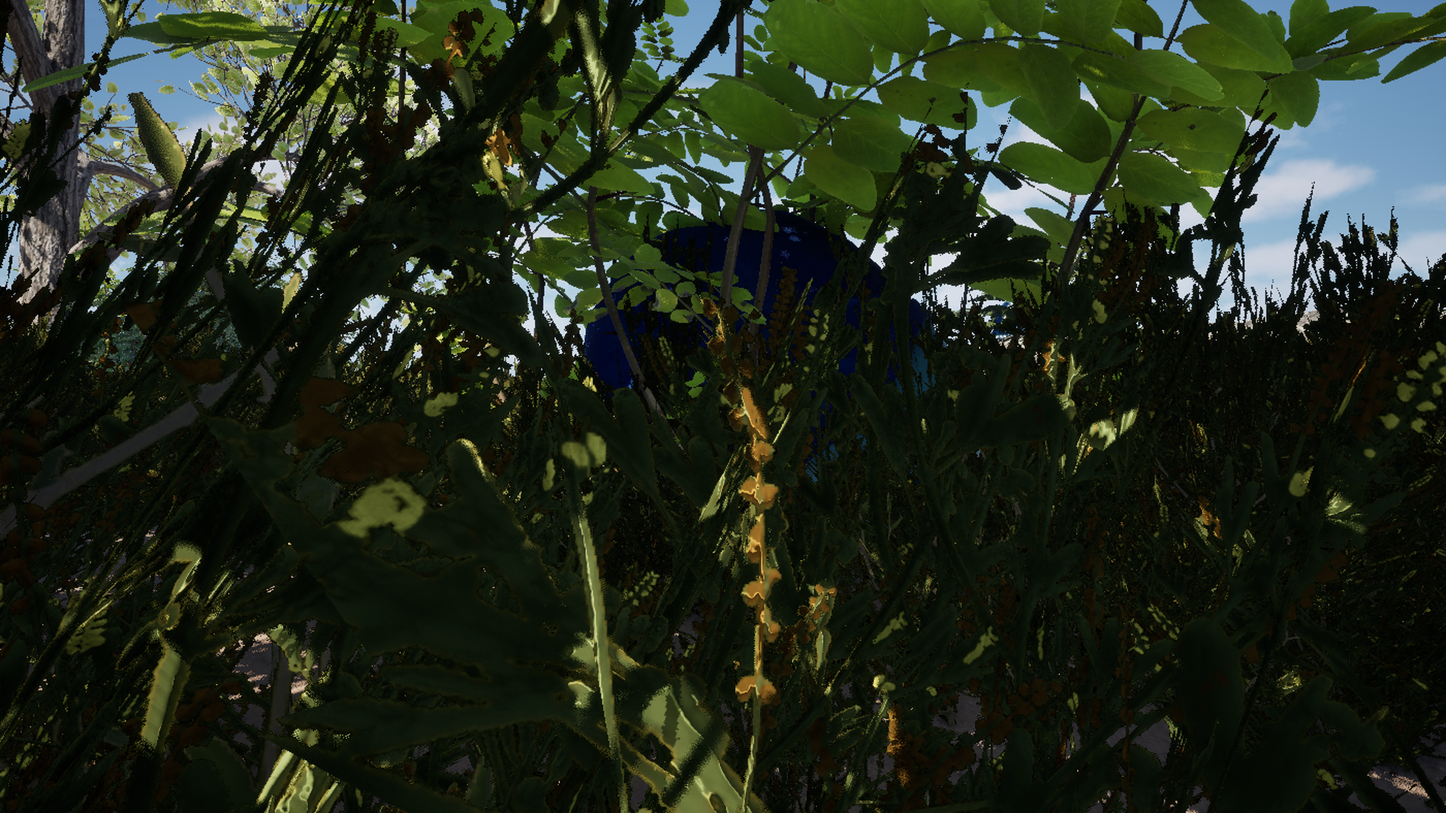Piplup: (397, 0, 1063, 813)
